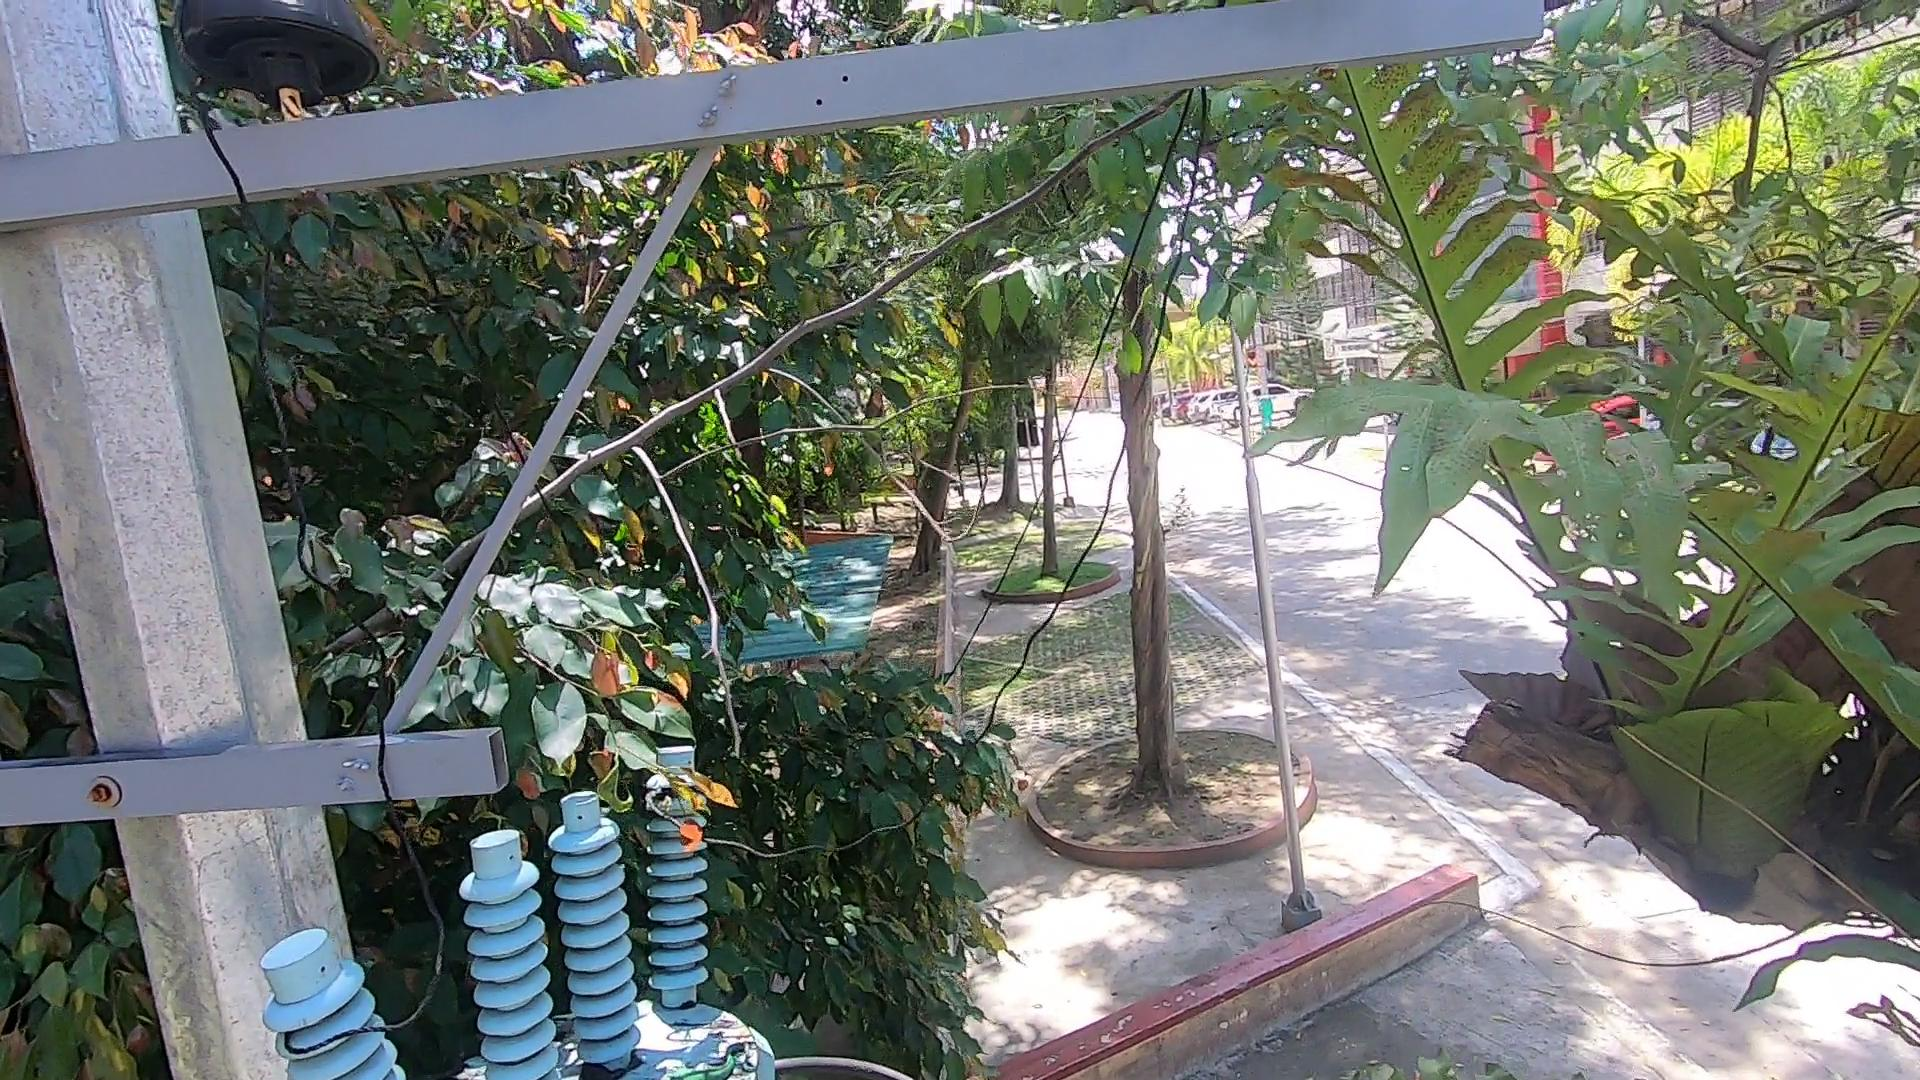leaf: (564, 1062, 622, 1080)
tree branch: (294, 54, 1432, 773)
